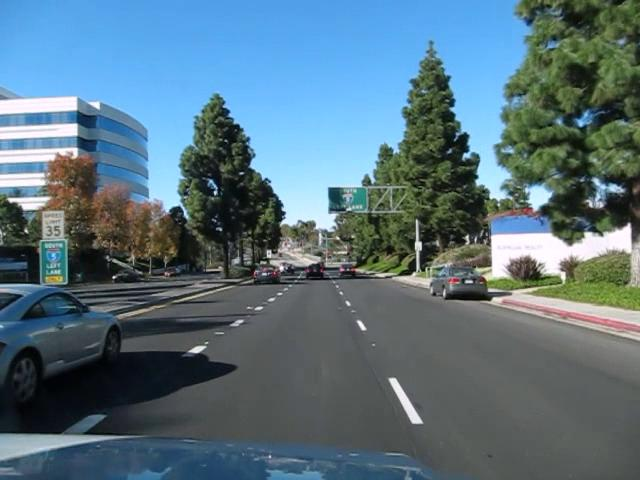speedLimit35: (41, 209, 65, 239)
